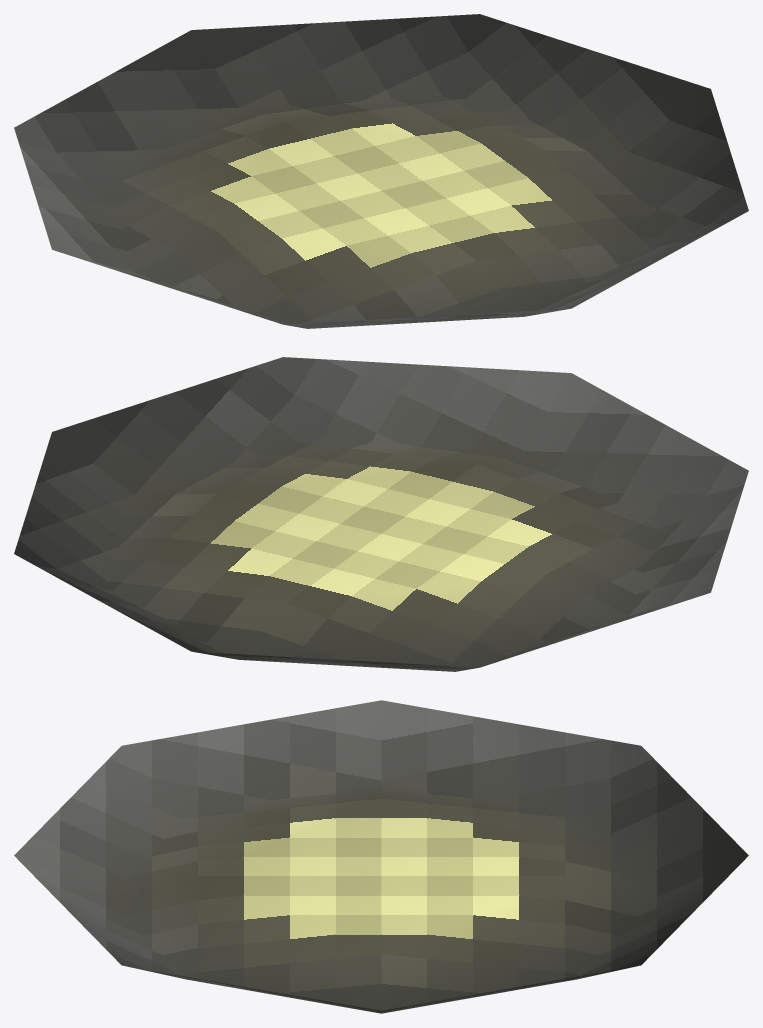
File: light_inlet.obj
3 renders of one model, top to bottom at view 1: azimuth 30°, elevation 25°; view 2: azimuth 150°, elevation 25°; view 3: azimuth 270°, elevation 25°, orthographic. The views are drawn at different scales.
Visible parts, largest first — view 1: Cube; view 2: Cube; view 3: Cube.
Boxes of the visible parts, x1,y1,x2,y2 form: Cube: (14, 14, 748, 328); Cube: (14, 357, 748, 671); Cube: (14, 700, 748, 1013).
Bounding box in the file's own units: 16 × 1 × 16.
